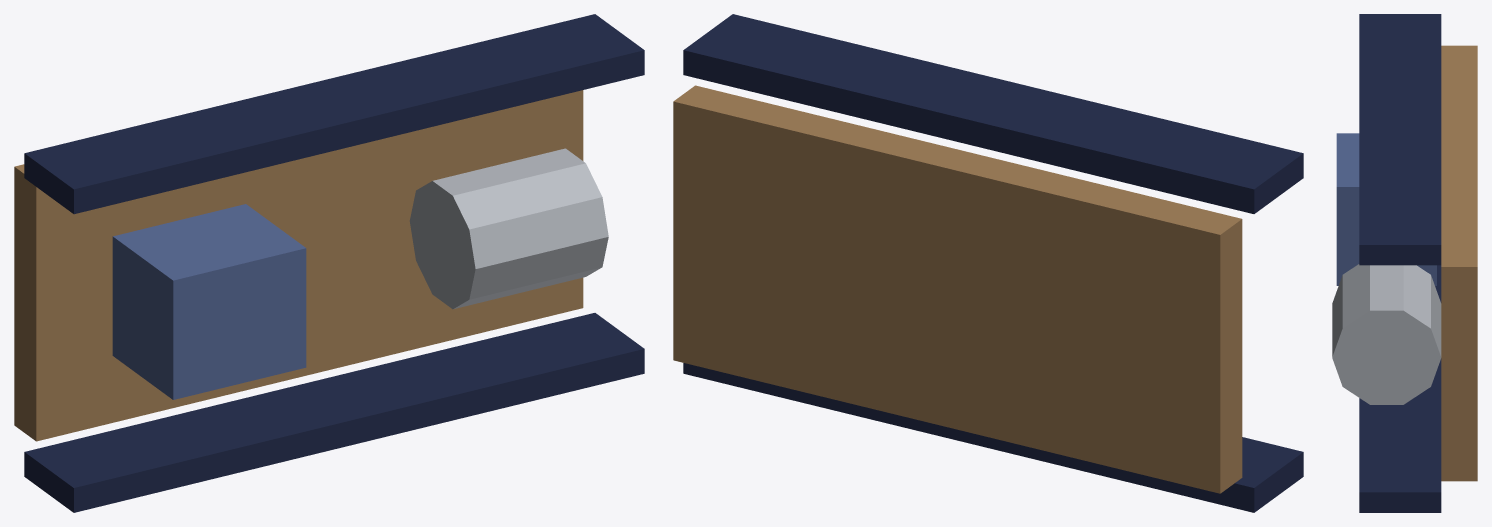
File: 08_skyship_deck.glb
3 renders of one model, left to right at view 1: azimuth 30°, elevation 25°; view 2: azimuth 150°, elevation 25°; view 3: azimuth 270°, elevation 25°, orthographic. The views are drawn at different scales.
Parts seen in each view (by area): view 1: deck_insert, rail_right, rail_left, cargo_crate, winch; view 2: deck_insert, rail_right, rail_left; view 3: rail_right, deck_insert, winch, rail_left, cargo_crate.
Boxes of the visible parts, box(x1,y1,x2,y2) form: deck_insert: box(14, 90, 583, 441); rail_right: box(24, 14, 644, 214); rail_left: box(24, 313, 644, 512); cargo_crate: box(112, 204, 306, 399); winch: box(409, 148, 608, 309); deck_insert: box(673, 85, 1242, 493); rail_right: box(683, 14, 1303, 213); rail_left: box(683, 363, 1303, 512); rail_right: box(1359, 14, 1441, 265); deck_insert: box(1441, 45, 1477, 481); winch: box(1332, 264, 1441, 404); rail_left: box(1359, 265, 1441, 512); cargo_crate: box(1336, 133, 1436, 285).
Size of the model in its own units: 1.32 by 0.715 by 0.352.
